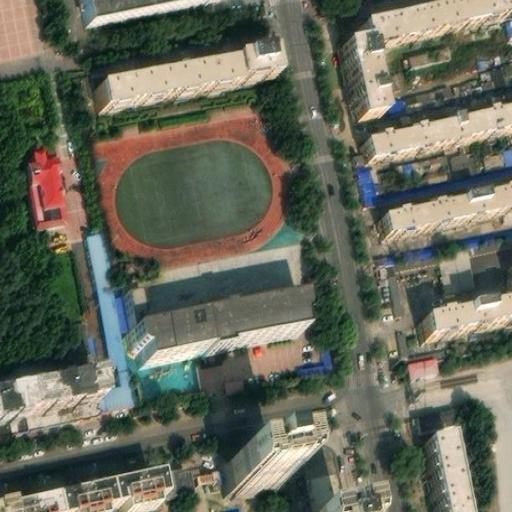building: (131, 295, 306, 359), (94, 46, 273, 105), (366, 99, 510, 164), (373, 179, 512, 244), (0, 467, 169, 512), (83, 224, 130, 365), (414, 293, 512, 345), (382, 221, 512, 259), (226, 426, 338, 468), (417, 426, 466, 512), (340, 28, 382, 111), (26, 140, 69, 219), (228, 448, 292, 492), (386, 78, 455, 116), (389, 150, 451, 188), (431, 247, 475, 297), (99, 361, 138, 408), (463, 240, 512, 276), (123, 282, 154, 328), (450, 142, 487, 174), (402, 40, 449, 65), (449, 70, 485, 101), (478, 60, 509, 93), (357, 161, 379, 203), (408, 351, 441, 376), (165, 462, 196, 488), (388, 271, 408, 308), (483, 144, 506, 167)
